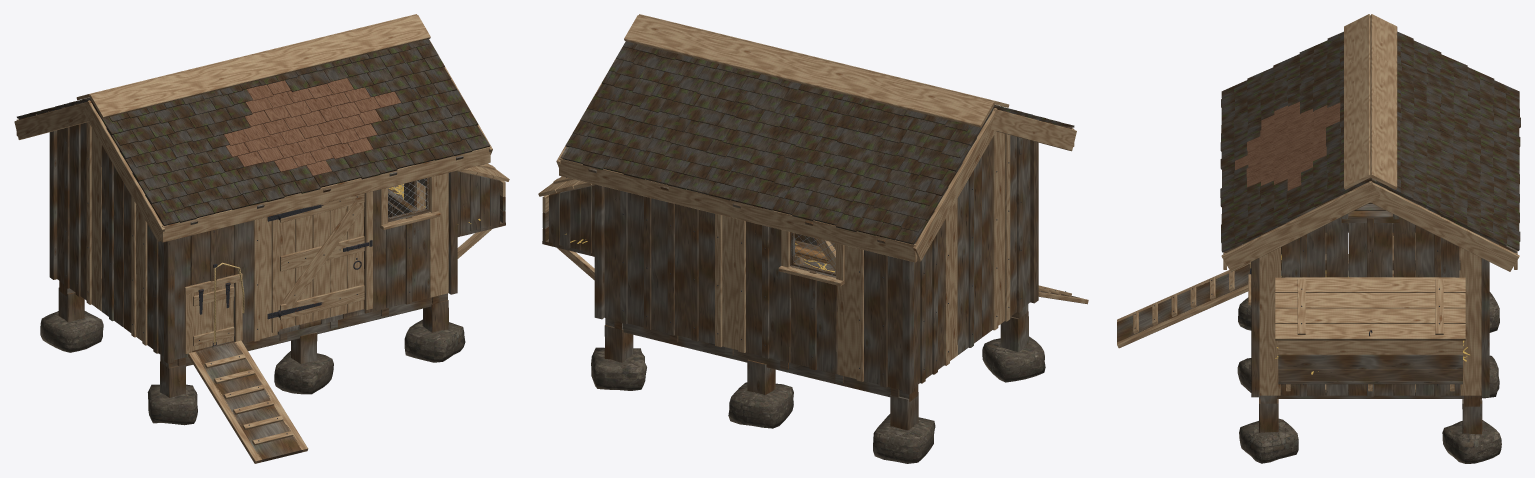
The model's file is gallinero_reparado.glb.
3 renders of one model, left to right at view 1: azimuth 30°, elevation 25°; view 2: azimuth 150°, elevation 25°; view 3: azimuth 270°, elevation 25°, orthographic. The views are drawn at different scales.
Visible parts, largest first — view 1: Gallinero, Tejado, Puerta, Trampilla; view 2: Gallinero, Tejado; view 3: Tejado, Gallinero, TapaNidales.
Part boxes in pixels (bbox=[...]): Gallinero: bbox=[40, 122, 505, 463]; Tejado: bbox=[14, 14, 492, 242]; Puerta: bbox=[278, 193, 369, 329]; Trampilla: bbox=[192, 282, 234, 350]; Gallinero: bbox=[542, 131, 1088, 463]; Tejado: bbox=[556, 14, 1076, 262]; Tejado: bbox=[1220, 14, 1520, 271]; Gallinero: bbox=[1117, 202, 1501, 463]; TapaNidales: bbox=[1275, 277, 1465, 340].
Bounding box in the file's own units: 2.66 × 2 × 2.46.
Materials: 10 (10 with a texture image).
